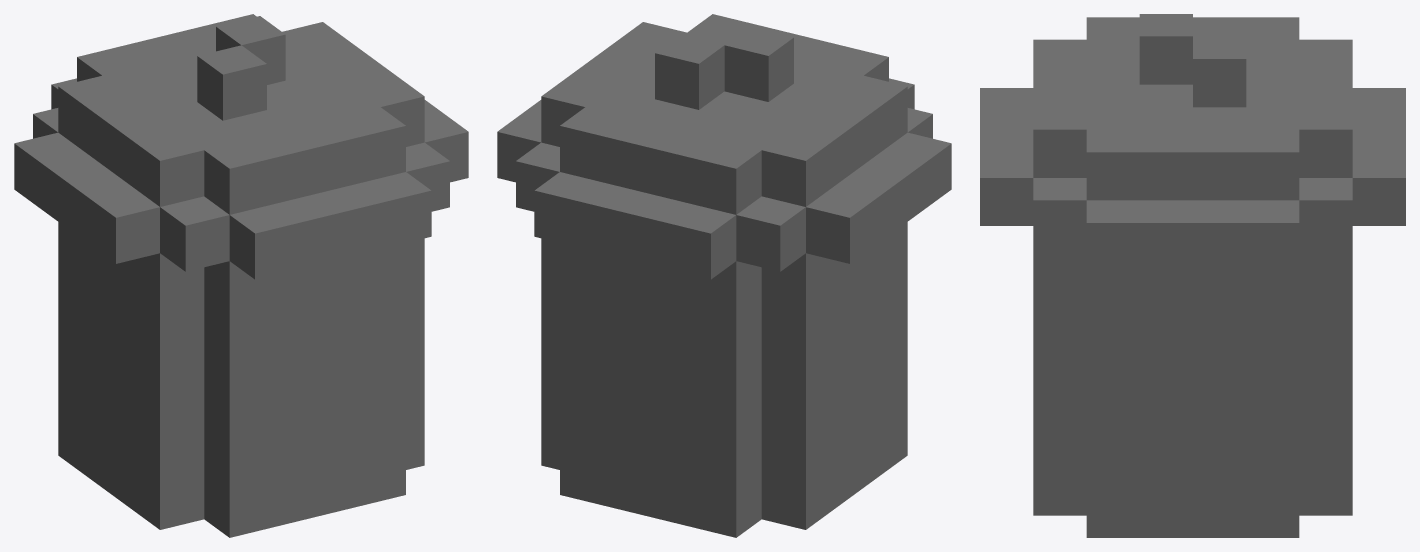
File: trash_can.obj
3 renders of one model, left to right at view 1: azimuth 30°, elevation 25°; view 2: azimuth 150°, elevation 25°; view 3: azimuth 270°, elevation 25°, orthographic. The views are drawn at different scales.
Parts seen in each view (by area): view 1: trash_can; view 2: trash_can; view 3: trash_can.
Boxes of the visible parts, x1,y1,x2,y2 form: trash_can: (14, 14, 468, 537); trash_can: (497, 14, 951, 537); trash_can: (980, 14, 1405, 537).
Bounding box in the file's own units: 8 × 9 × 8.
Materials: 1 (1 with a texture image).
